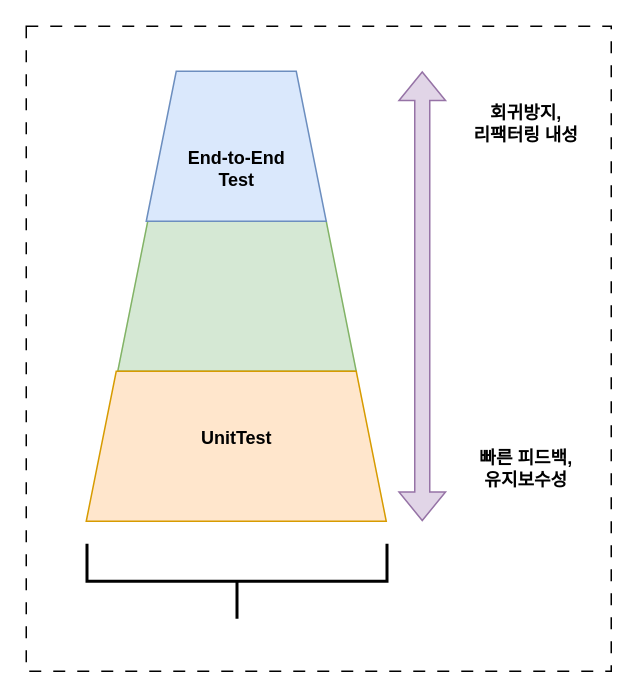
Image size: 638x698. Some labels were removed from this diagram. Here are the shapes that lost their labels. From the top down, the box of each, then its label:
(116, 220, 356, 371): Integration Test
(85, 542, 388, 620): 테스트 개수
